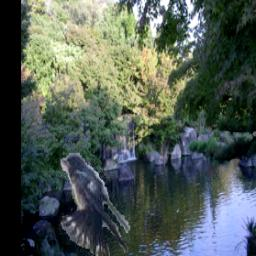Swallow: (59, 154, 129, 256)
